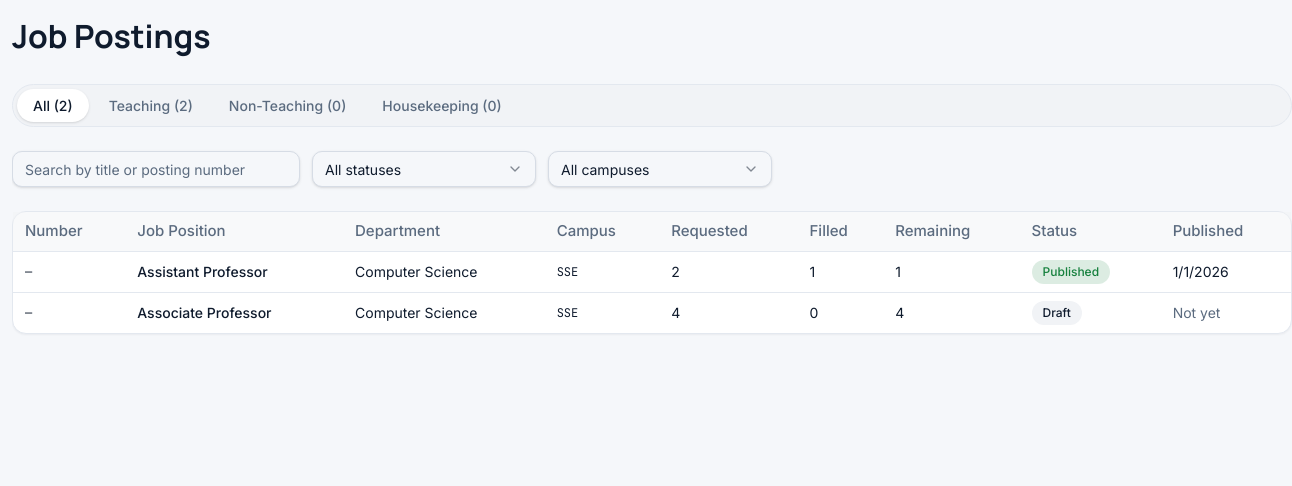
JobPostingsListPage › shows a draft as not yet published, and narrows to drafts by status
Expected: the link "Associate Professor" is shown, [137,304,272,321]
Expected: the text "Draft" is shown, [1032,300,1082,324]
What coordinates should you click on to do the following:
click the dropdown named "Status filter"
I would click on:
 (424, 169)
Its box is [312,151,536,187].
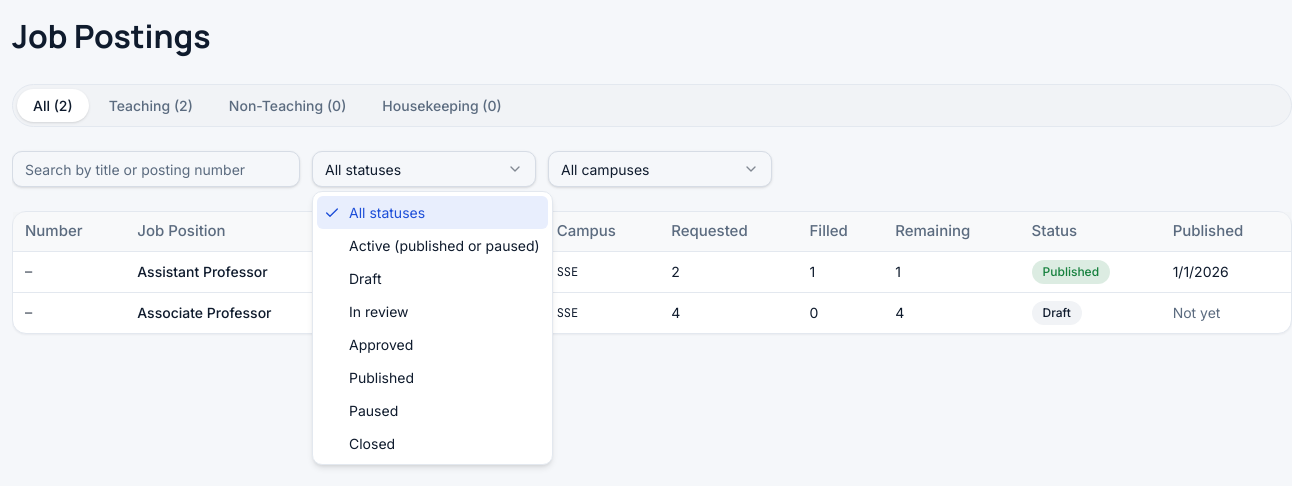
What coordinates should you click on to do the following:
click the option "Draft"
I would click on:
 (365, 278)
Its box is [349,270,382,287].
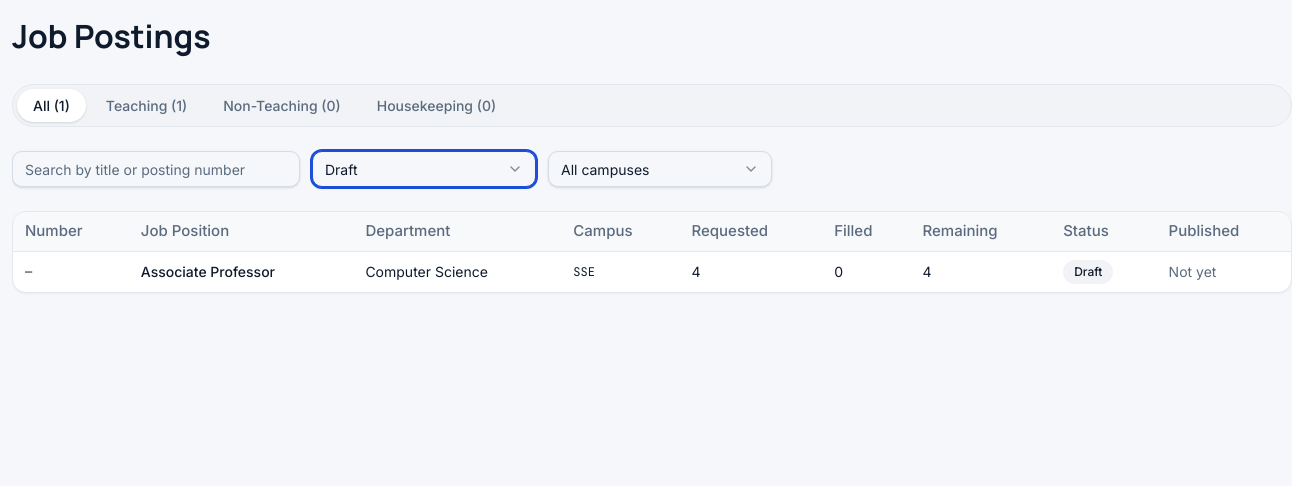
Expected: the link "Associate Professor" is shown, [141,263,275,280]
Expected: the link "Assistant Professor" is gone
